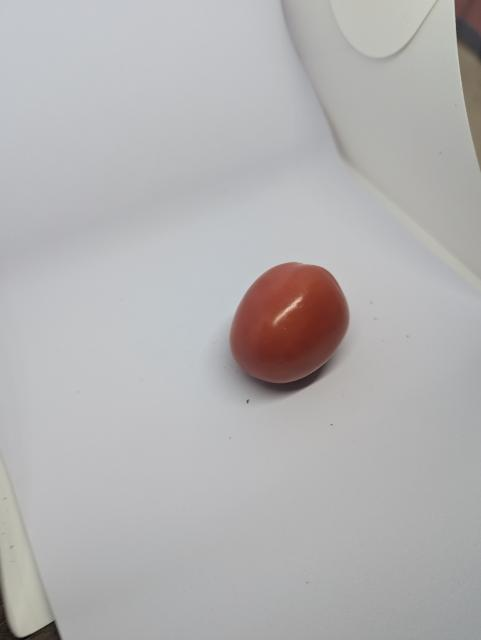red: (221, 250, 360, 420)
